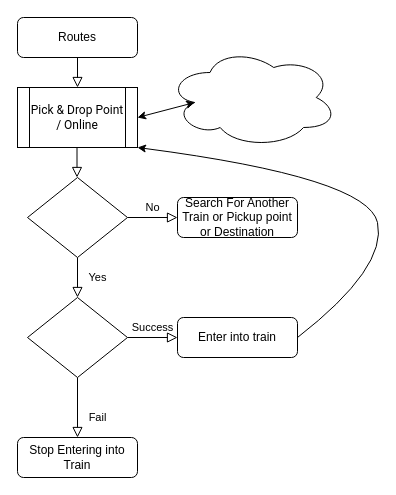
Image size: 396x495. Some labels were removed from this diagram. Here are the shapes that lost their labels. From the top down, the centre of each, then its label:
At [252,97]: "Next arrival time & current location of the train".
At [77,217]: "Check Availibility".
At [77,337]: "Ticket Scanner".
